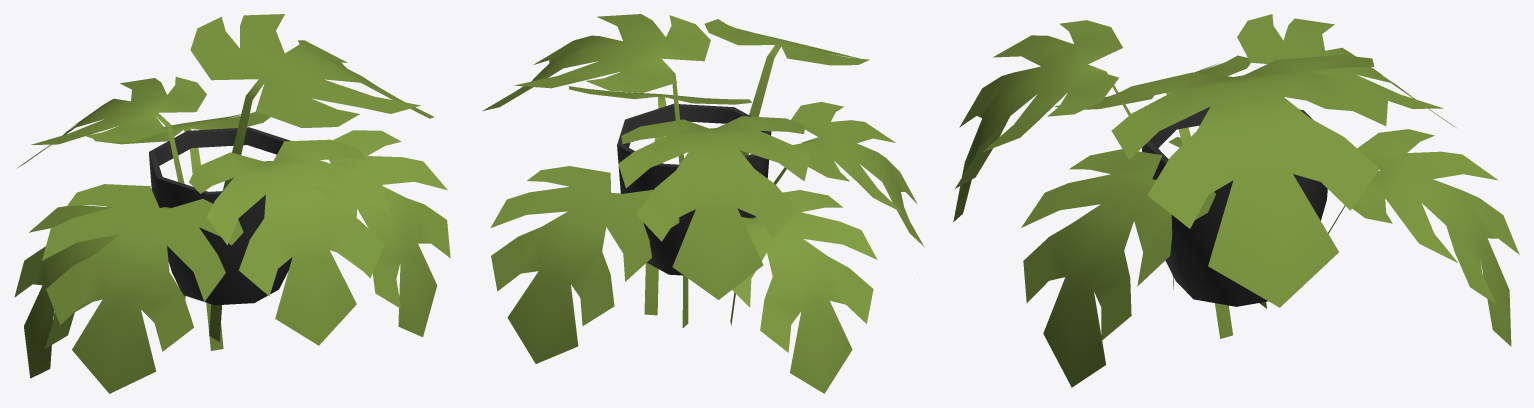
Rendered from flower_2.glb.
3 views of the same model, side by side, from view 1: azimuth 30°, elevation 25°; view 2: azimuth 150°, elevation 25°; view 3: azimuth 270°, elevation 25° (orthographic). The views are drawn at different scales.
Visible parts, largest first — view 1: Houseplant_7_3, Houseplant_7_1; view 2: Houseplant_7_3, Houseplant_7_1; view 3: Houseplant_7_3, Houseplant_7_1.
Part boxes in pixels (box(x1,y1,x2,y2)): Houseplant_7_3: box(14, 14, 450, 393); Houseplant_7_1: box(149, 127, 292, 305); Houseplant_7_3: box(482, 14, 924, 393); Houseplant_7_1: box(617, 103, 771, 275); Houseplant_7_3: box(953, 14, 1519, 387); Houseplant_7_1: box(1142, 106, 1327, 306).
Size of the model in its own units: 38215 by 26924 by 39978.
